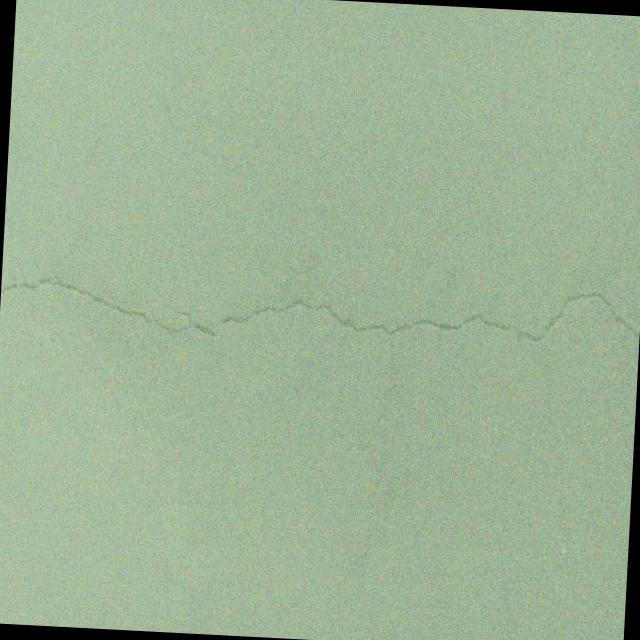crack: (0, 259, 640, 512), (361, 512, 382, 590)
